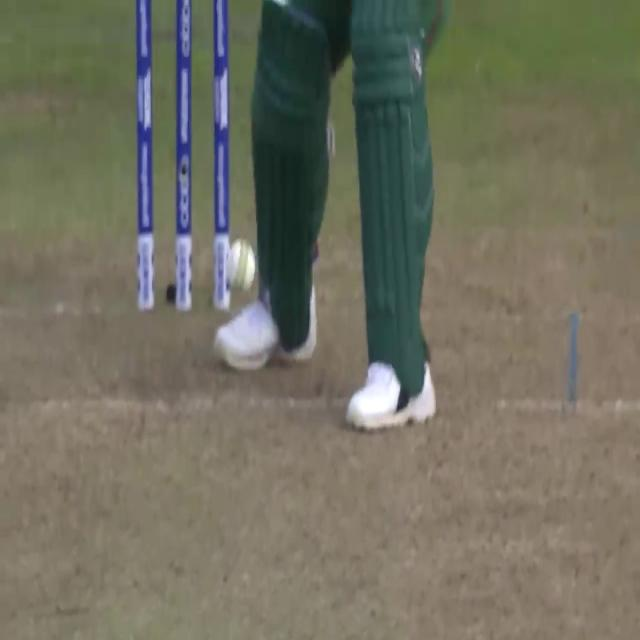ball: (226, 233, 258, 295)
